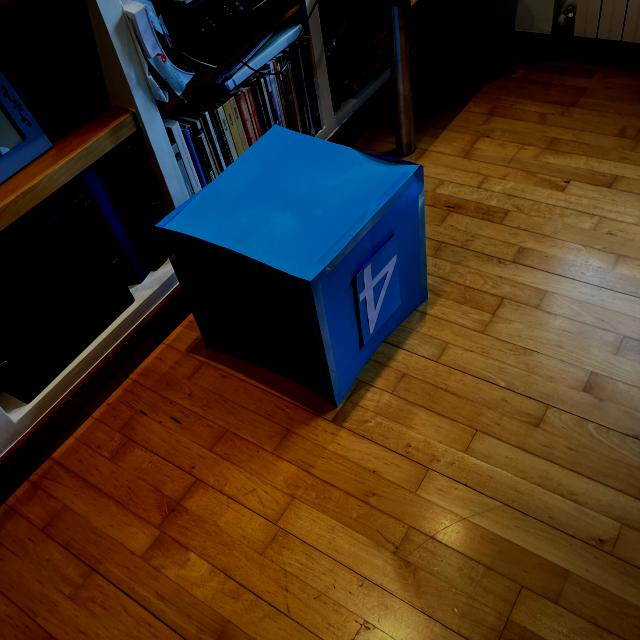box: (151, 120, 435, 412)
